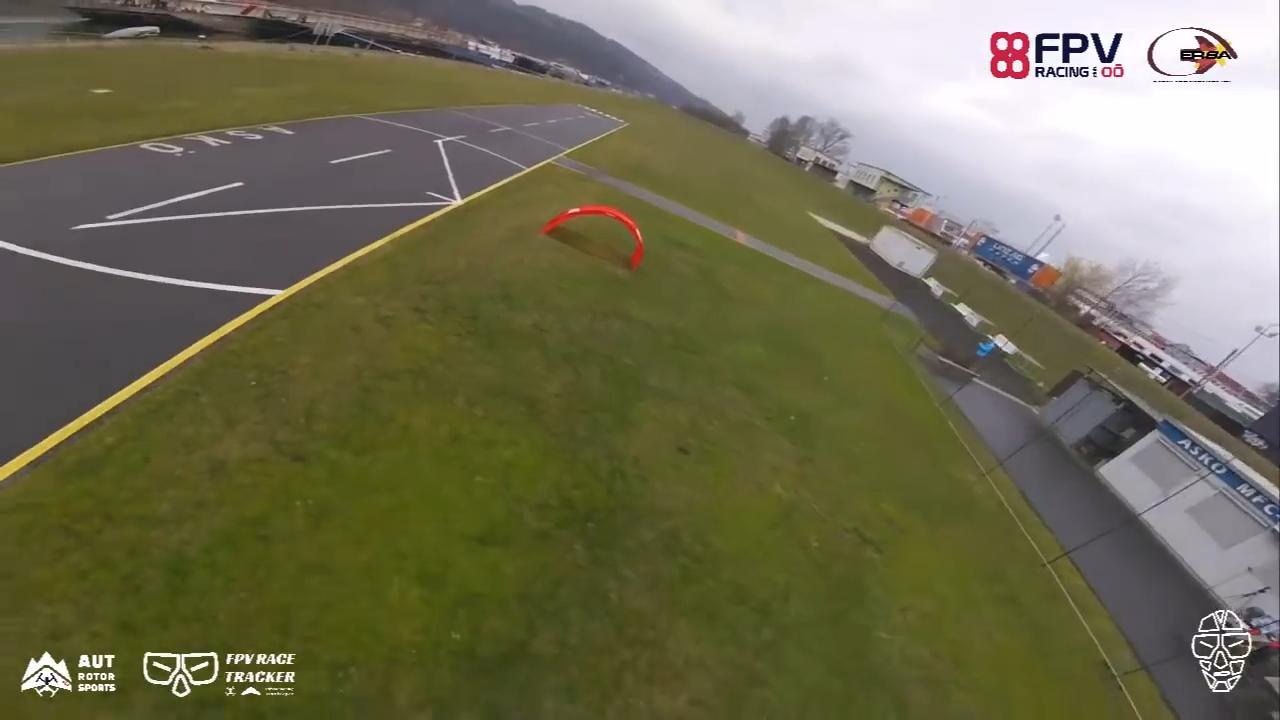gate: (541, 204, 644, 273)
